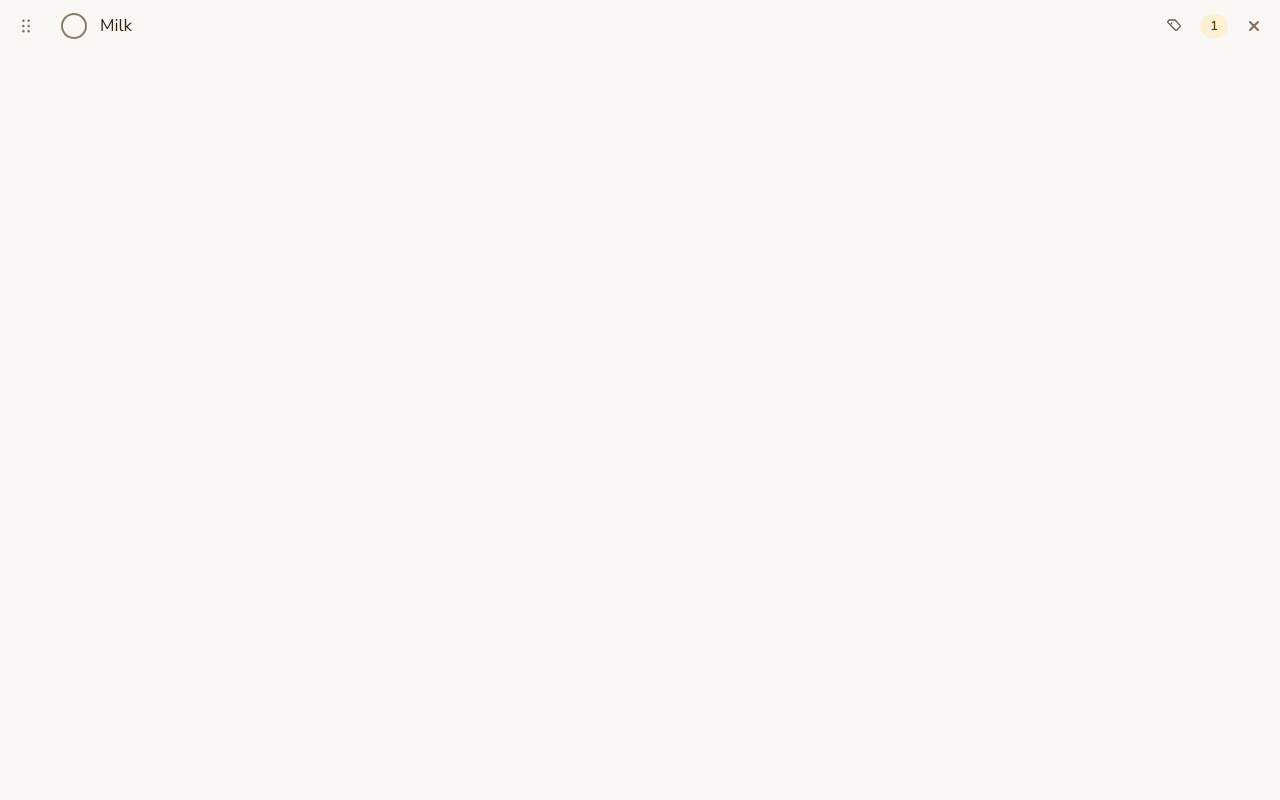
ItemRow › opens the SectionSheet when the section chip is tapped, and closes on select
Step 1. Click the button named "change section" → (1174, 26), box [1152,4,1196,48]
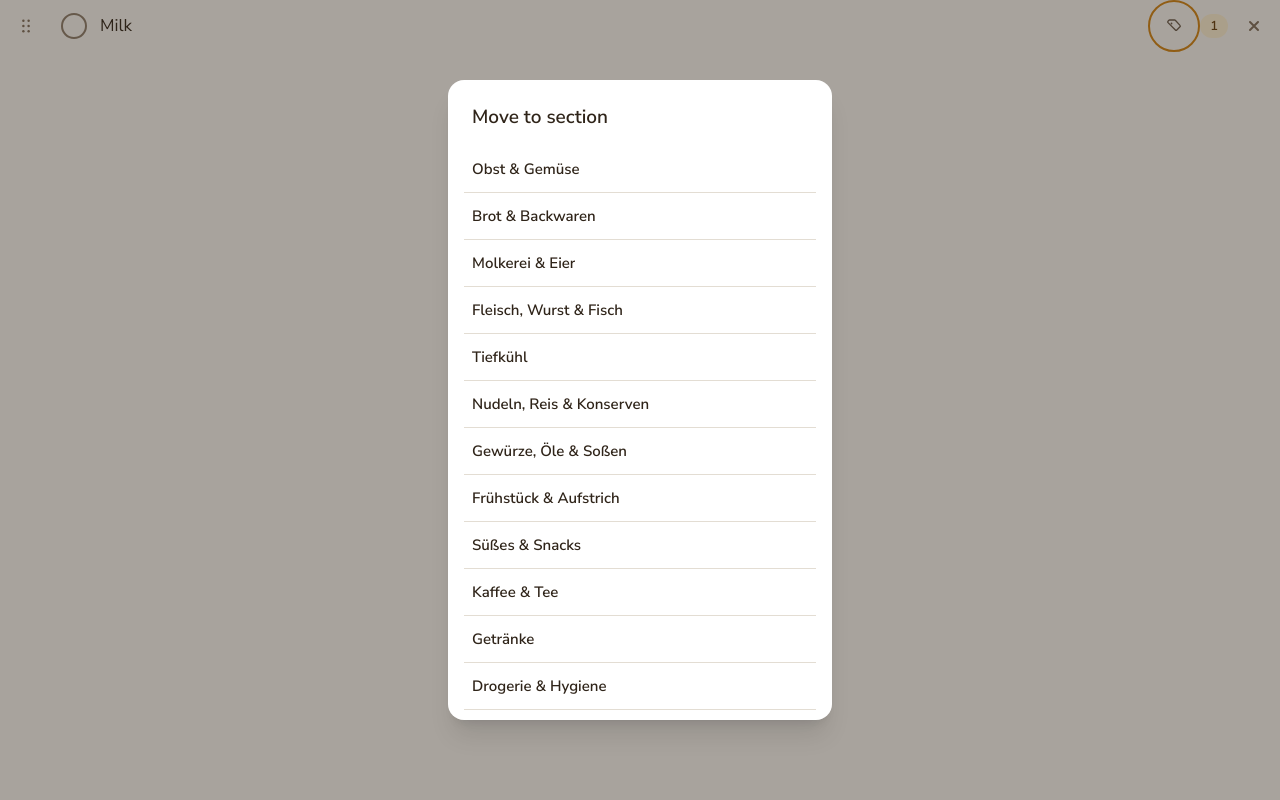
Expected: the dialog is shown, [448,80,832,720]
Step 2. Click the button "Obst & Gemüse" → (526, 169), box [464,146,816,192]
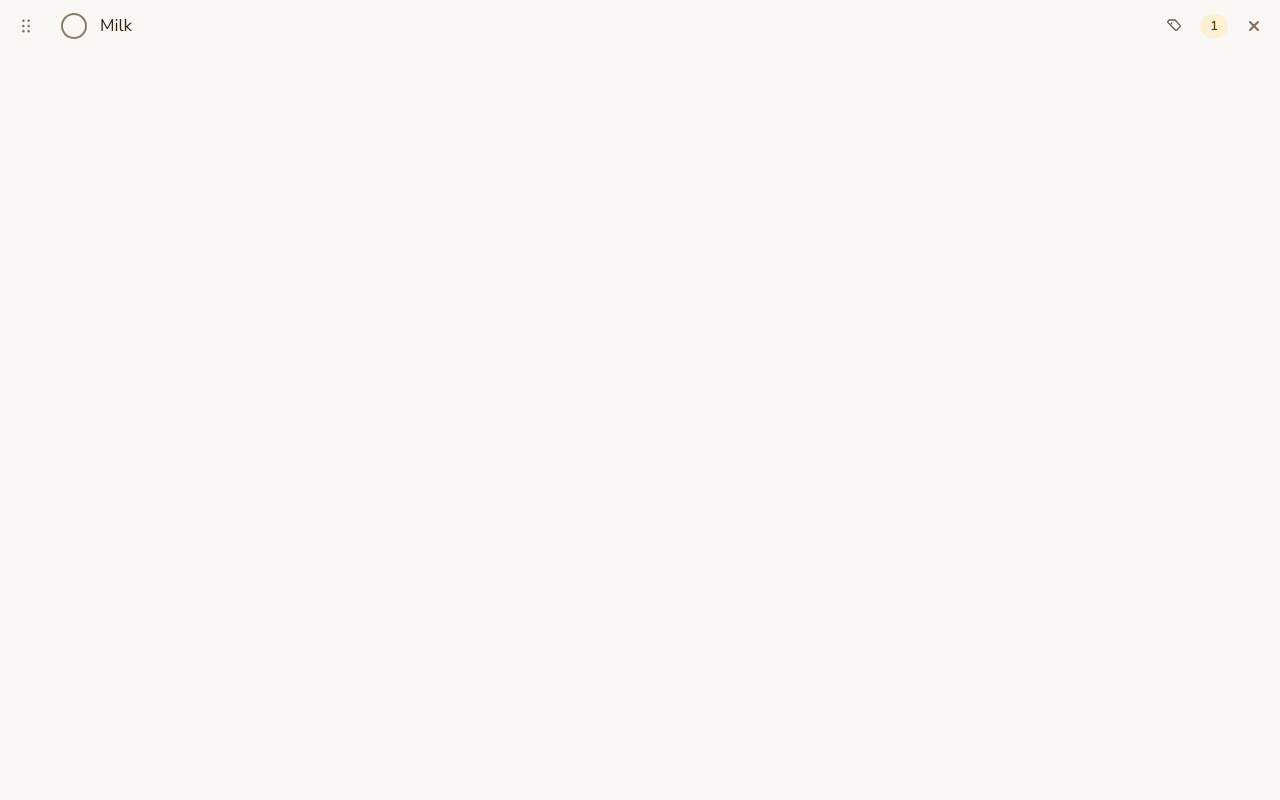
Expected: the dialog is gone
